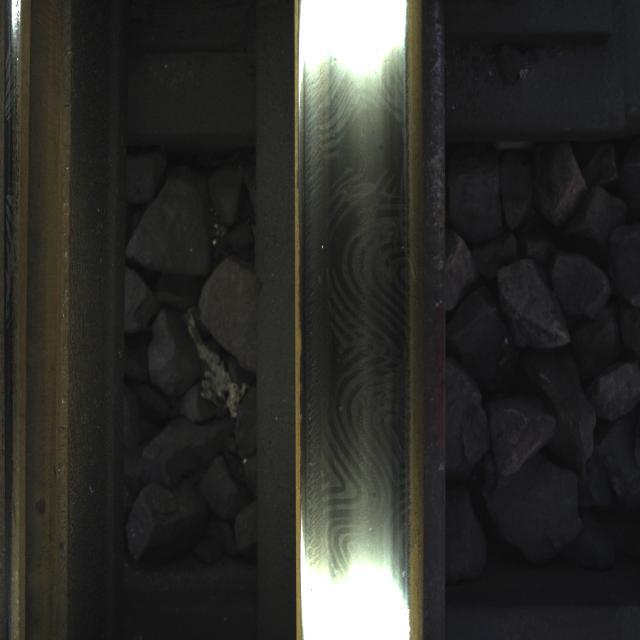normal: (305, 50, 400, 584)
